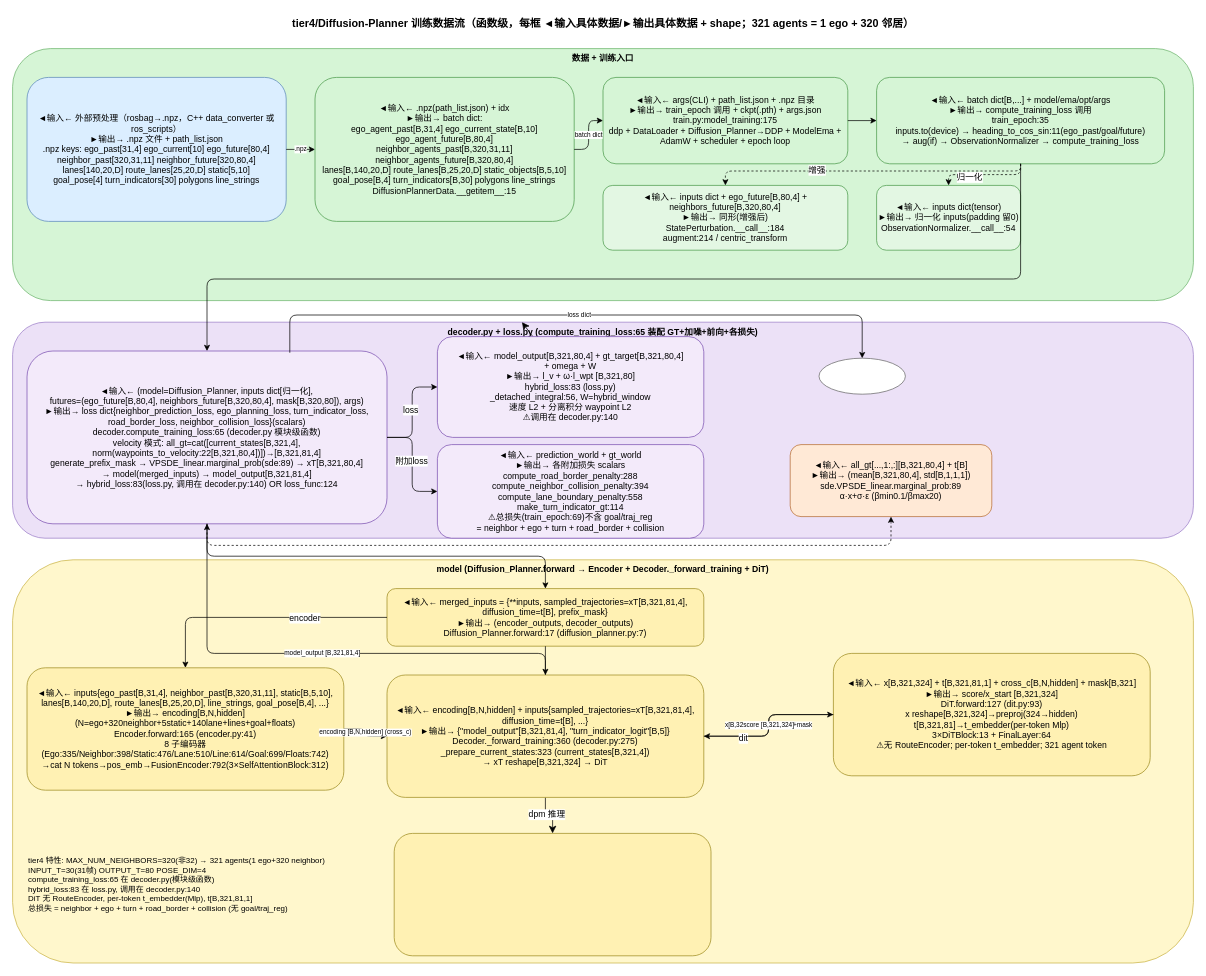
Image size: 1206x976. Some labels were removed from this diagram. Here are the shapes that lost their labels. From the top down, the centre of each, then its label:
At point (861, 375): "backward".
At point (552, 894): "_forward_inference".
